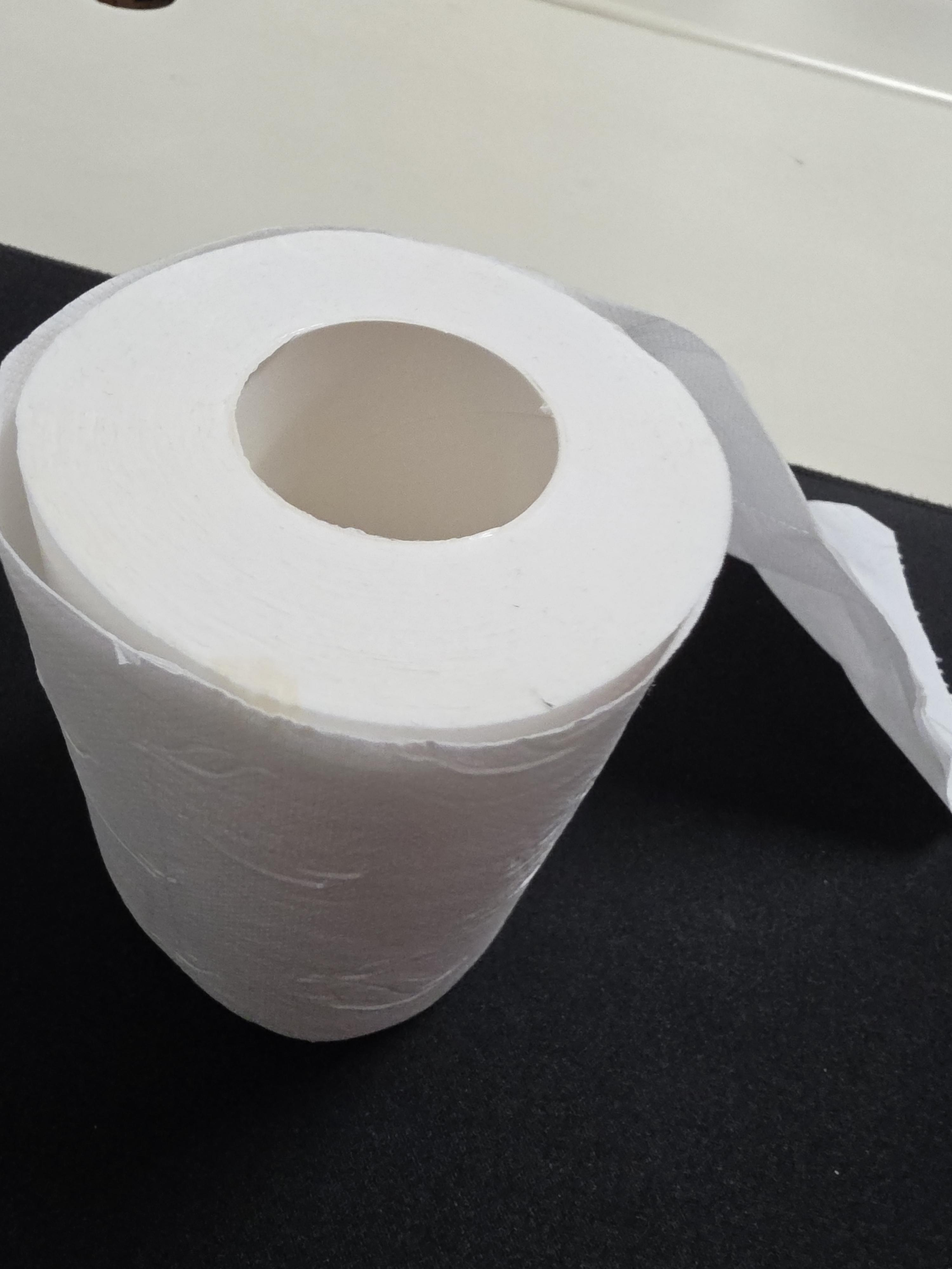tissue: (0, 226, 951, 1043)
